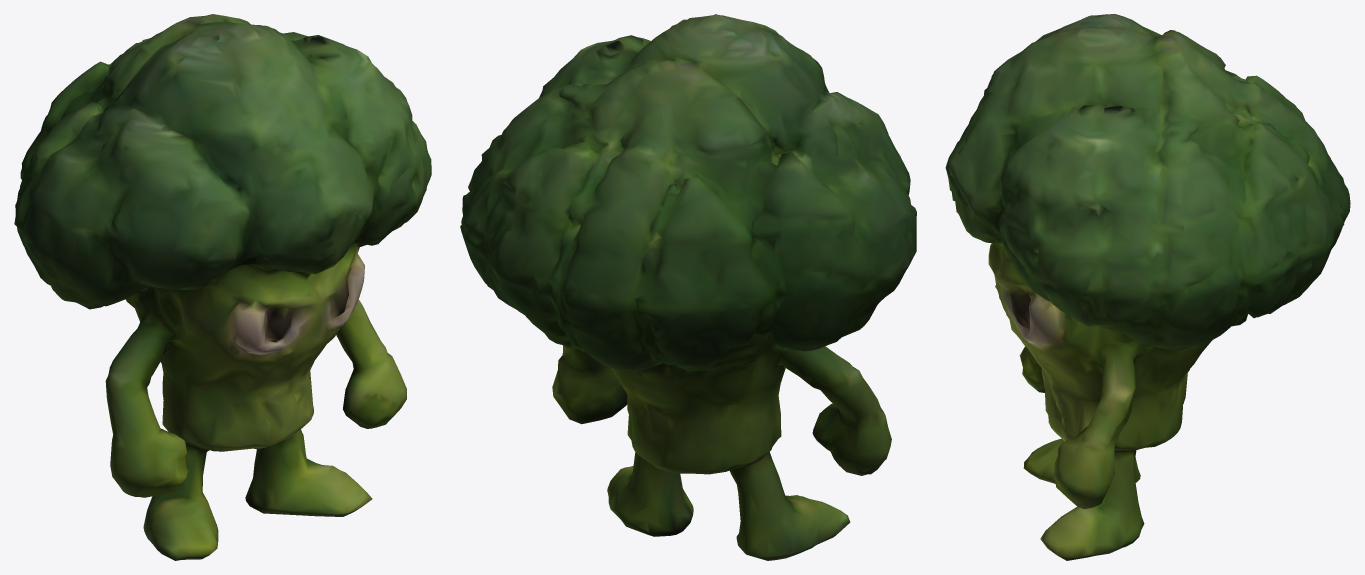
Rendered from broccoli.glb.
3 views of the same model, side by side, from view 1: azimuth 30°, elevation 25°; view 2: azimuth 150°, elevation 25°; view 3: azimuth 270°, elevation 25° (orthographic). The views are drawn at different scales.
Visible parts, largest first — view 1: broccoli; view 2: broccoli; view 3: broccoli.
Part boxes in pixels (x1,y1,x2,y2): broccoli: (14, 14, 431, 560); broccoli: (460, 14, 916, 560); broccoli: (945, 14, 1350, 560).
Bounding box in the file's own units: 0.9917 × 1.2 × 0.9088.
